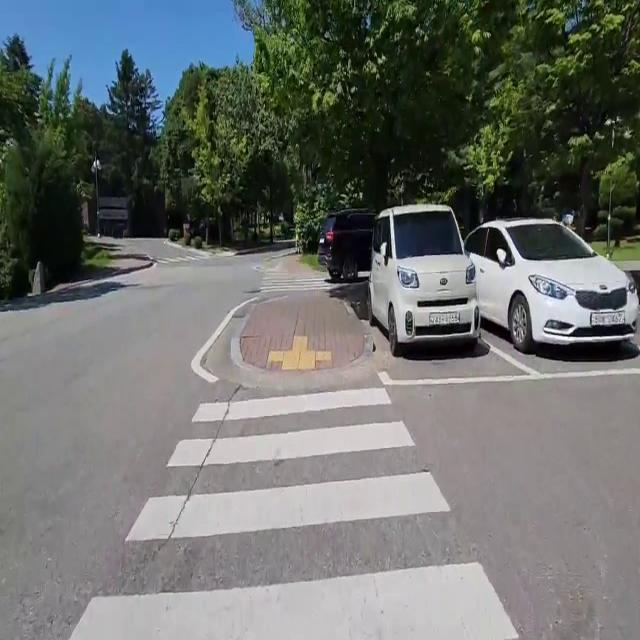car: (462, 203, 640, 379), (366, 196, 487, 362), (315, 201, 377, 292)
streetlamp: (85, 149, 110, 242)
